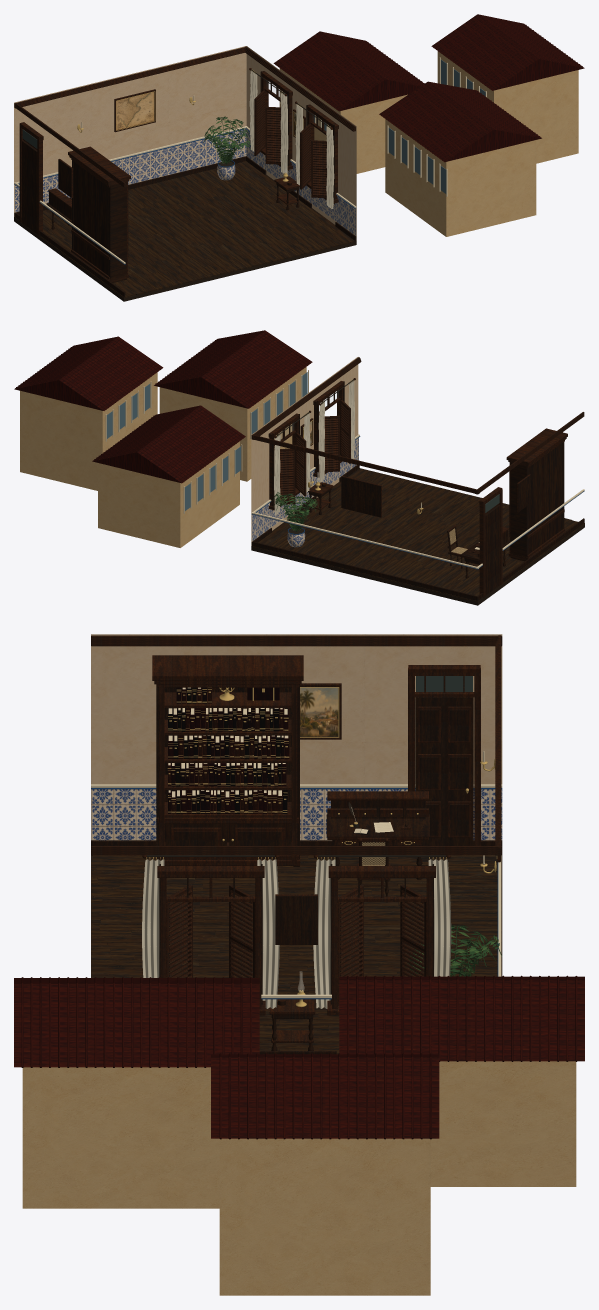
File: gabinete-goncalves-dias.glb
3 renders of one model, top to bottom at view 1: azimuth 30°, elevation 25°; view 2: azimuth 150°, elevation 25°; view 3: azimuth 270°, elevation 25°, orthographic. The views are drawn at different scales.
Visible parts, largest first — view 1: Cenario_Telha_barro_40, Cenario_Assoalho_castanho_14, Cenario_Reboco_exterior_39, Cenario_Reboco_cal_marfin_0, Cenario_Madeira_entalhada_12, Cenario_Jacaranda_polido_2, Cenario_Azulejo_portugues_azul_1, Cenario_Linho_cru_29, Cenario_Papel_e_marfin_3, Cenario_Juntas_escuras_13, Cenario_Pintura_azul_antiga_41, Cenario_Tela_pintura_0_31 (+4 smaller); view 2: Cenario_Reboco_exterior_39, Cenario_Telha_barro_40, Cenario_Assoalho_castanho_14, Cenario_Madeira_entalhada_12, Cenario_Jacaranda_polido_2, Cenario_Reboco_cal_marfin_0, Cenario_Papel_e_marfin_3, Cenario_Pintura_azul_antiga_41, Cenario_Linho_cru_29, Cenario_Juntas_escuras_13, Cenario_Folhas_verdes_37, Cenario_Azulejo_portugues_azul_6 (+1 smaller); view 3: Cenario_Reboco_exterior_39, Cenario_Telha_barro_40, Cenario_Madeira_entalhada_12, Cenario_Reboco_cal_marfin_0, Cenario_Assoalho_castanho_14, Cenario_Jacaranda_polido_2, Cenario_Linho_cru_29, Cenario_Azulejo_portugues_azul_5, Cenario_Latao_envelhecido_15, Cenario_Papel_e_marfin_3, Cenario_Couro_livro_1_19, Cenario_Couro_livro_3_21 (+8 smaller).
Boxes of the visible parts, x1,y1,x2,y2 form: Cenario_Telha_barro_40: (273,14,584,162); Cenario_Assoalho_castanho_14: (14,161,356,298); Cenario_Reboco_exterior_39: (279,51,578,236); Cenario_Reboco_cal_marfin_0: (14,46,356,240); Cenario_Madeira_entalhada_12: (14,46,355,281); Cenario_Jacaranda_polido_2: (14,71,356,297); Cenario_Azulejo_portugues_azul_1: (14,129,246,212); Cenario_Linho_cru_29: (249,71,334,208); Cenario_Papel_e_marfin_3: (14,57,486,263); Cenario_Juntas_escuras_13: (14,218,356,301); Cenario_Pintura_azul_antiga_41: (284,59,485,193); Cenario_Tela_pintura_0_31: (116,92,154,129); Cenario_Reboco_exterior_39: (20,367,306,547); Cenario_Telha_barro_40: (14,330,312,483); Cenario_Assoalho_castanho_14: (251,468,584,602); Cenario_Madeira_entalhada_12: (251,357,584,597); Cenario_Jacaranda_polido_2: (251,381,584,601); Cenario_Reboco_cal_marfin_0: (251,357,358,545); Cenario_Papel_e_marfin_3: (105,370,584,568); Cenario_Pintura_azul_antiga_41: (107,372,307,510); Cenario_Linho_cru_29: (274,381,354,515); Cenario_Juntas_escuras_13: (251,524,584,605); Cenario_Folhas_verdes_37: (272,492,319,531); Cenario_Azulejo_portugues_azul_6: (251,503,270,541); Cenario_Reboco_exterior_39: (22,1061,576,1295); Cenario_Telha_barro_40: (14,975,584,1139); Cenario_Madeira_entalhada_12: (91,635,502,1042); Cenario_Reboco_cal_marfin_0: (91,634,502,784); Cenario_Assoalho_castanho_14: (91,855,501,1054); Cenario_Jacaranda_polido_2: (91,684,502,1054); Cenario_Linho_cru_29: (142,859,451,1008); Cenario_Azulejo_portugues_azul_5: (91,789,502,840); Cenario_Latao_envelhecido_15: (146,687,497,1006); Cenario_Papel_e_marfin_3: (91,687,502,998); Cenario_Couro_livro_1_19: (168,688,289,813); Cenario_Couro_livro_3_21: (168,687,287,813).
Bounding box in the file's own units: 18.66 × 4.29 × 10.
42 materials, 27 textured.
